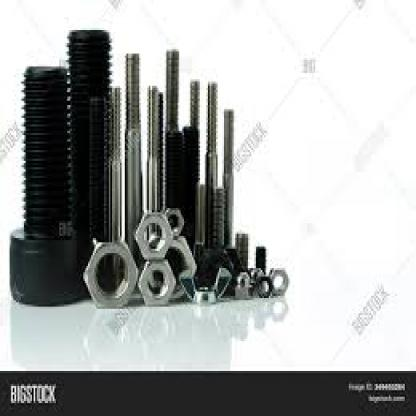METAL: (8, 67, 80, 304), (66, 28, 108, 298), (123, 50, 141, 270), (80, 240, 136, 307), (107, 86, 120, 287), (198, 247, 244, 294), (163, 47, 176, 212), (88, 94, 102, 244), (182, 122, 198, 251), (131, 210, 171, 260), (163, 236, 194, 300), (205, 82, 216, 244), (178, 266, 227, 300), (146, 83, 158, 220), (165, 129, 182, 221), (136, 260, 173, 302), (222, 107, 232, 251), (190, 77, 198, 238), (157, 90, 163, 212), (213, 186, 224, 248), (164, 206, 182, 236), (194, 183, 203, 242), (268, 266, 286, 294), (233, 232, 246, 270), (234, 270, 248, 296), (254, 276, 272, 294), (248, 266, 262, 285), (254, 244, 264, 268)
